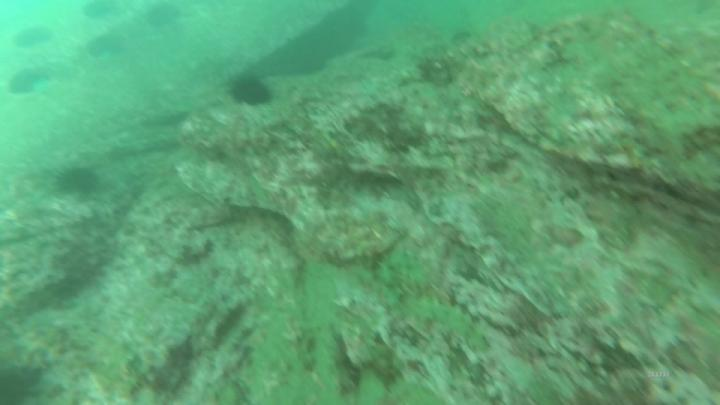echinus: (51, 163, 105, 196), (229, 73, 275, 110)
holothurian: (414, 295, 487, 354), (379, 254, 426, 290)
